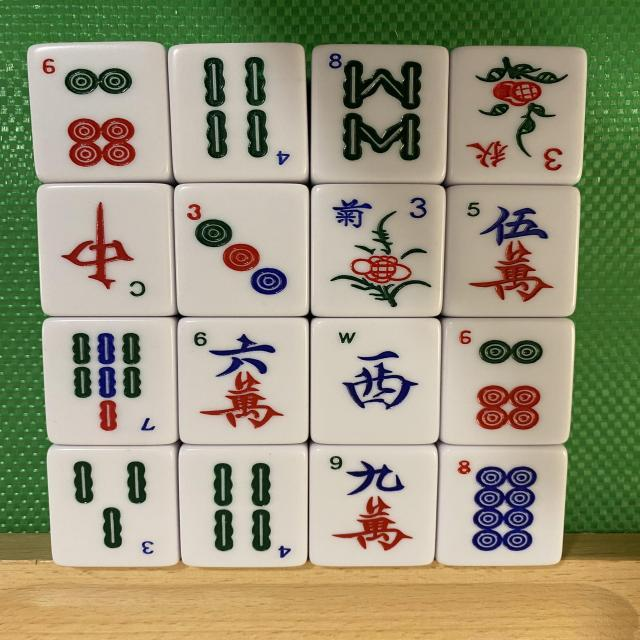bf3: (313, 190, 441, 312)
bs3: (455, 49, 586, 182)
hdr: (41, 190, 170, 318)
hww: (312, 318, 439, 444)
sb3: (49, 448, 177, 564)
sb4: (167, 49, 304, 181), (177, 444, 308, 564)
sb7: (45, 320, 177, 440)
sb8: (315, 49, 437, 174)
sc5: (450, 188, 580, 320)
sc6: (179, 320, 305, 446)
sc9: (309, 446, 434, 564)
sd3: (180, 190, 308, 320)
sd6: (30, 44, 169, 178), (442, 320, 573, 447)
sd8: (438, 448, 564, 570)
